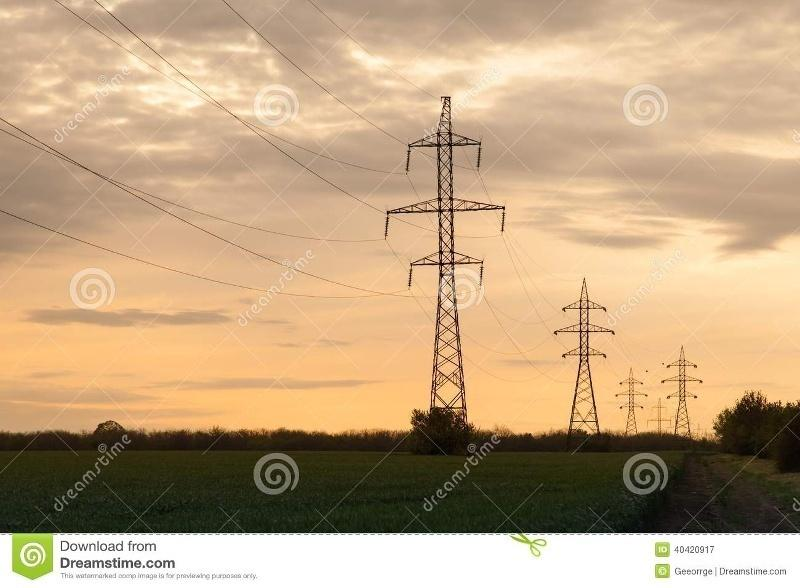power_tower: (397, 87, 496, 439), (544, 277, 609, 432), (661, 343, 700, 437), (608, 362, 641, 440)
